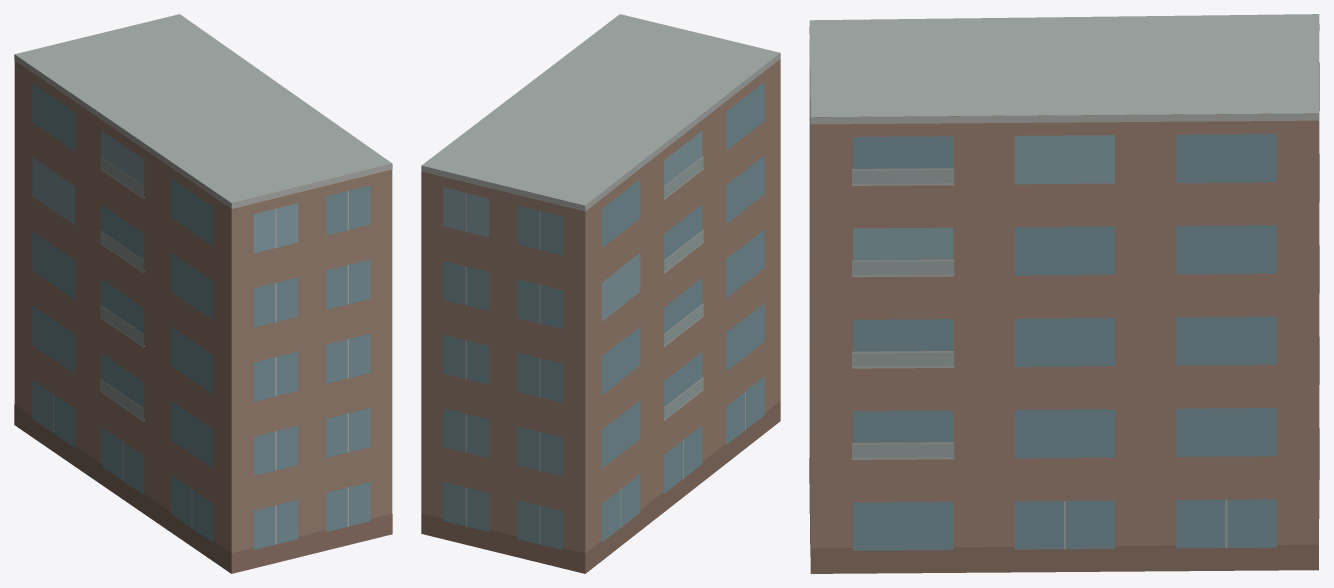
Rendered from survey-upis-32873199.glb.
3 views of the same model, side by side, from view 1: azimuth 30°, elevation 25°; view 2: azimuth 150°, elevation 25°; view 3: azimuth 270°, elevation 25° (orthographic). The views are drawn at different scales.
Visible parts, largest first — view 1: survey-upis-32873199.tmp; view 2: survey-upis-32873199.tmp; view 3: survey-upis-32873199.tmp.
Part boxes in pixels (x1,y1,x2,y2): survey-upis-32873199.tmp: (14,14,392,573); survey-upis-32873199.tmp: (421,14,780,573); survey-upis-32873199.tmp: (809,14,1319,573).
Bounding box in the file's own units: 7.41 × 15.25 × 15.44.
